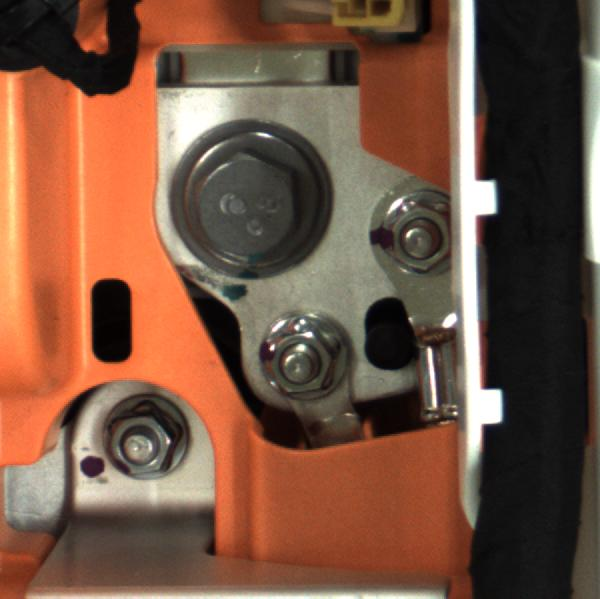nut_b: (159, 110, 337, 277)
screw_s: (247, 308, 369, 412), (87, 396, 211, 481), (375, 195, 458, 284)
